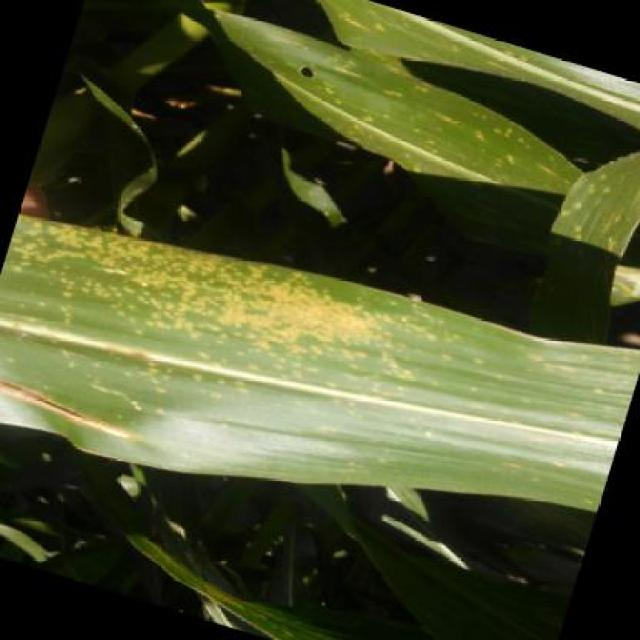Corn_Rust: (37, 205, 460, 503)
